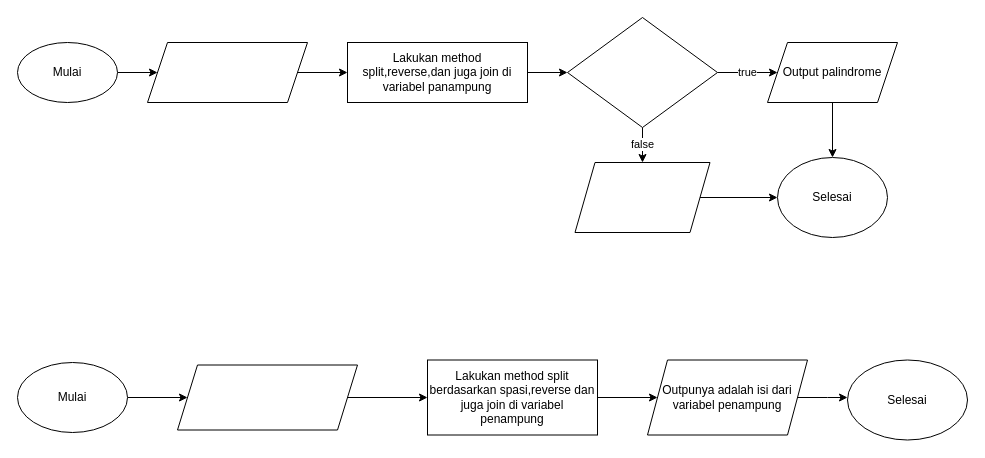
Image size: 985x458. Some labels were removed from this diagram. Here are the shapes that lost their labels. From the top down, the centre of each, then its label:
At (227,72): "Input variabel palindrome dan variabel panampung".
At (642,72): "Jika var palindrome === variabel panmpung".
At (642,197): "Output Bukan Palindrome".
At (267,397): "Input variabel reverse dan variabel penampung".
